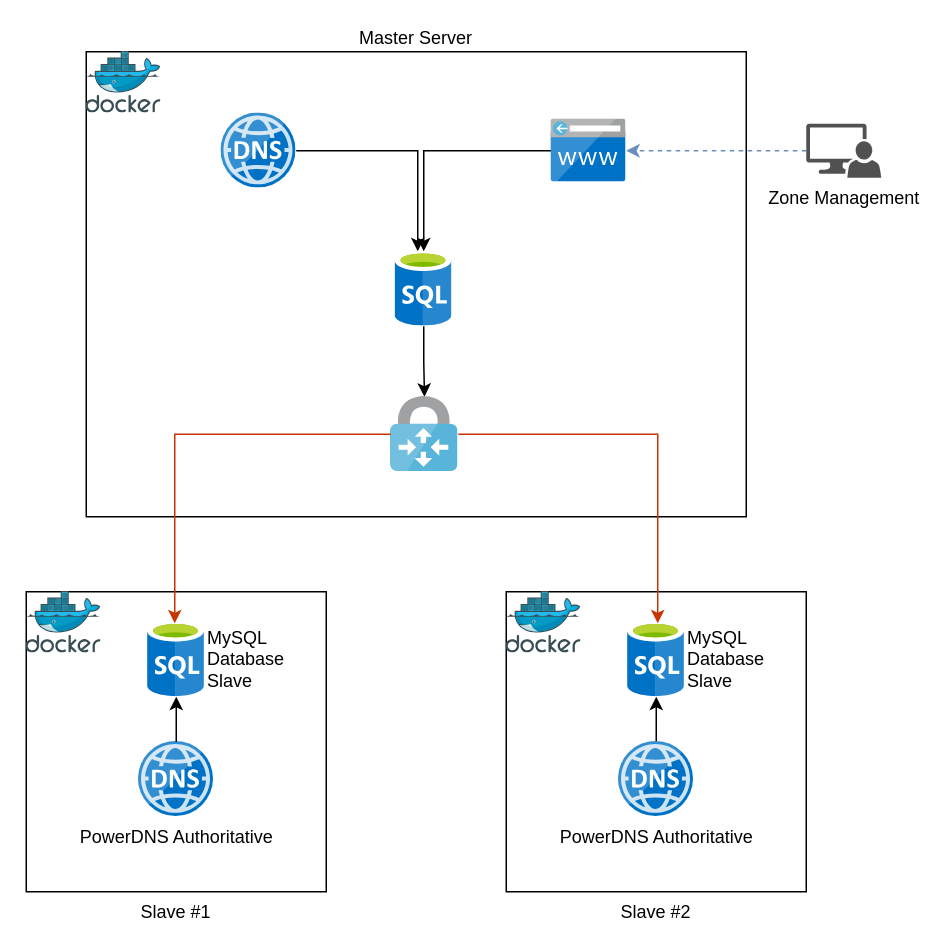
Some shapes in this 945 by 948 pixel diagram are drawn without their labels. Here are the shapes that lost their labels. From the top down, the centre of each, then its label:
At point 258,150: "Pdns Server".
At point 588,150: "Pdns-admin".
At point 423,288: "MySQL Database Master".
At point 424,433: "SSH Tunnels".
